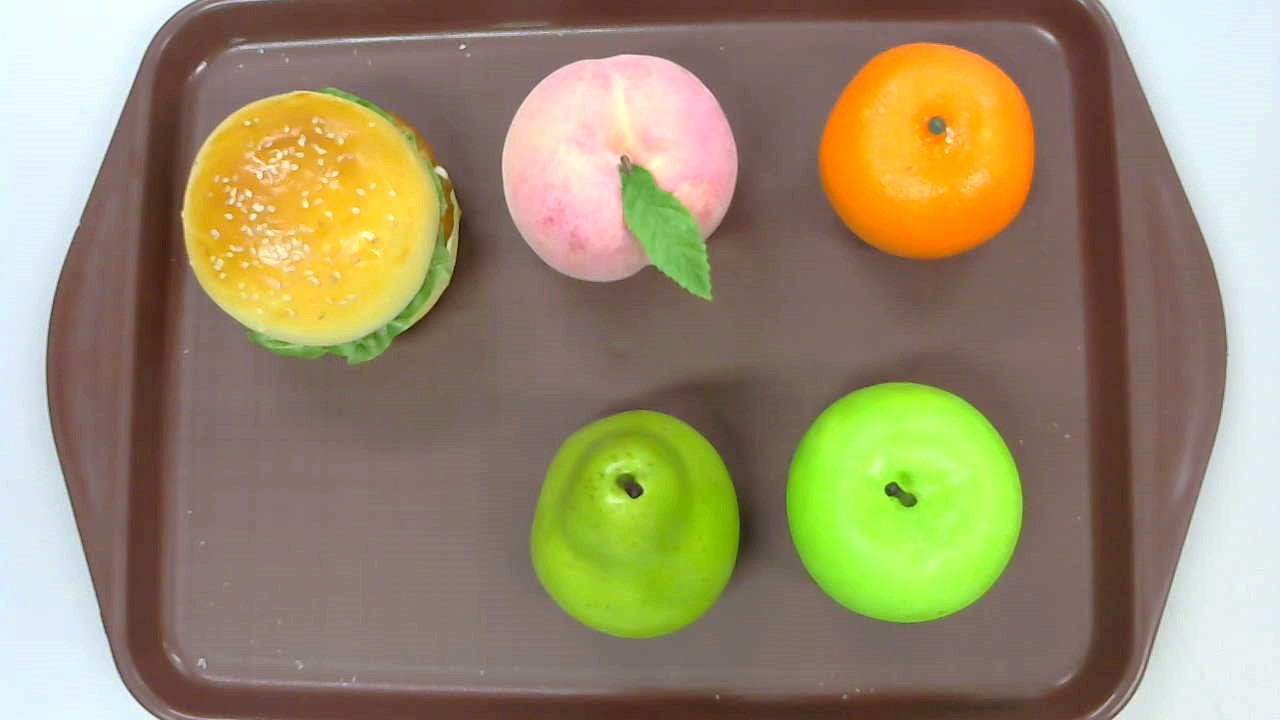green apple: (785, 380, 1023, 623)
green pear: (530, 408, 739, 638)
hamburger: (182, 87, 460, 366)
orange: (818, 42, 1034, 261)
peach: (502, 53, 737, 300)
